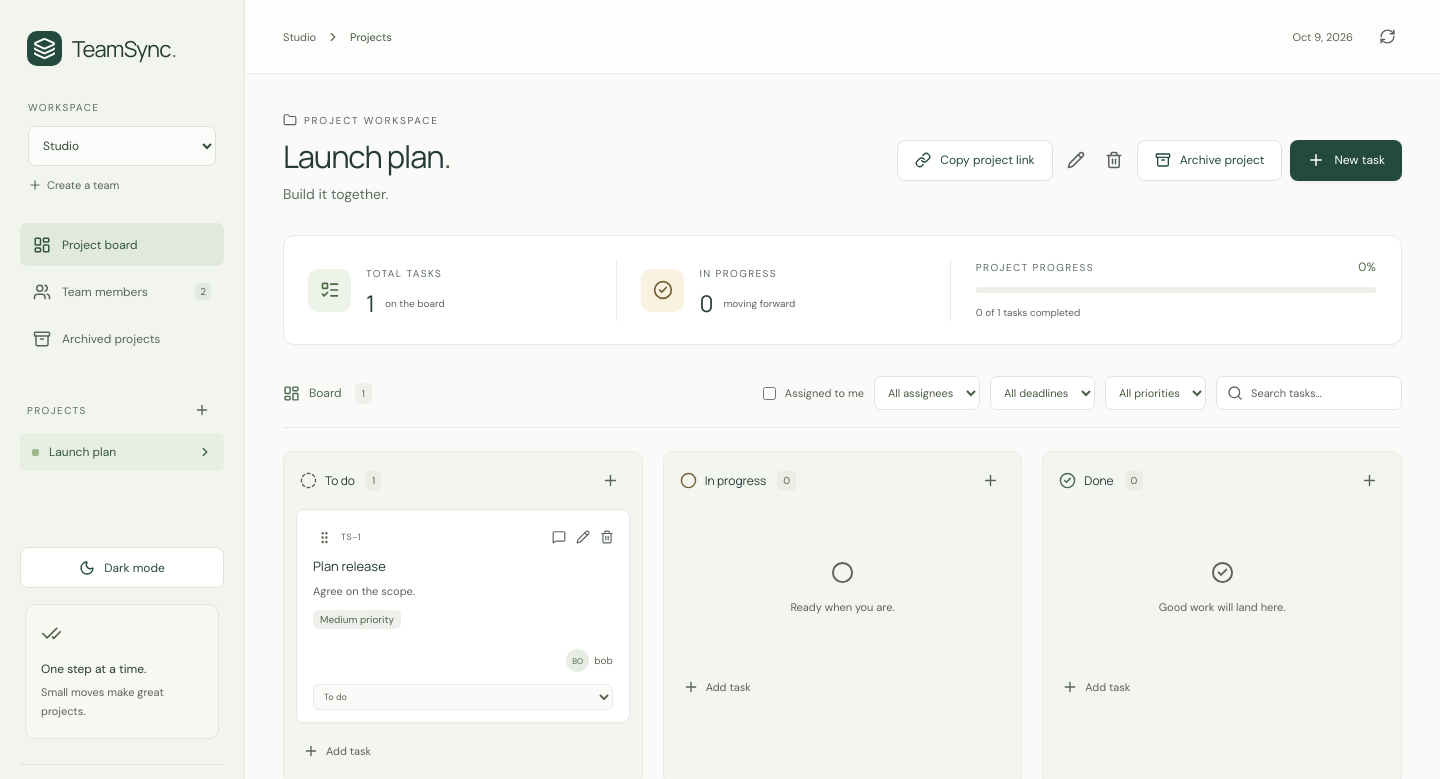
Test: filters tasks and clears an empty search
This screenshot has width=1440, height=779.
Expected: the heading "Launch plan." is shown, [283, 136, 450, 176]
In the search field labelled "Search tasks": (1321, 393) [1251, 386, 1391, 400], type "missing"
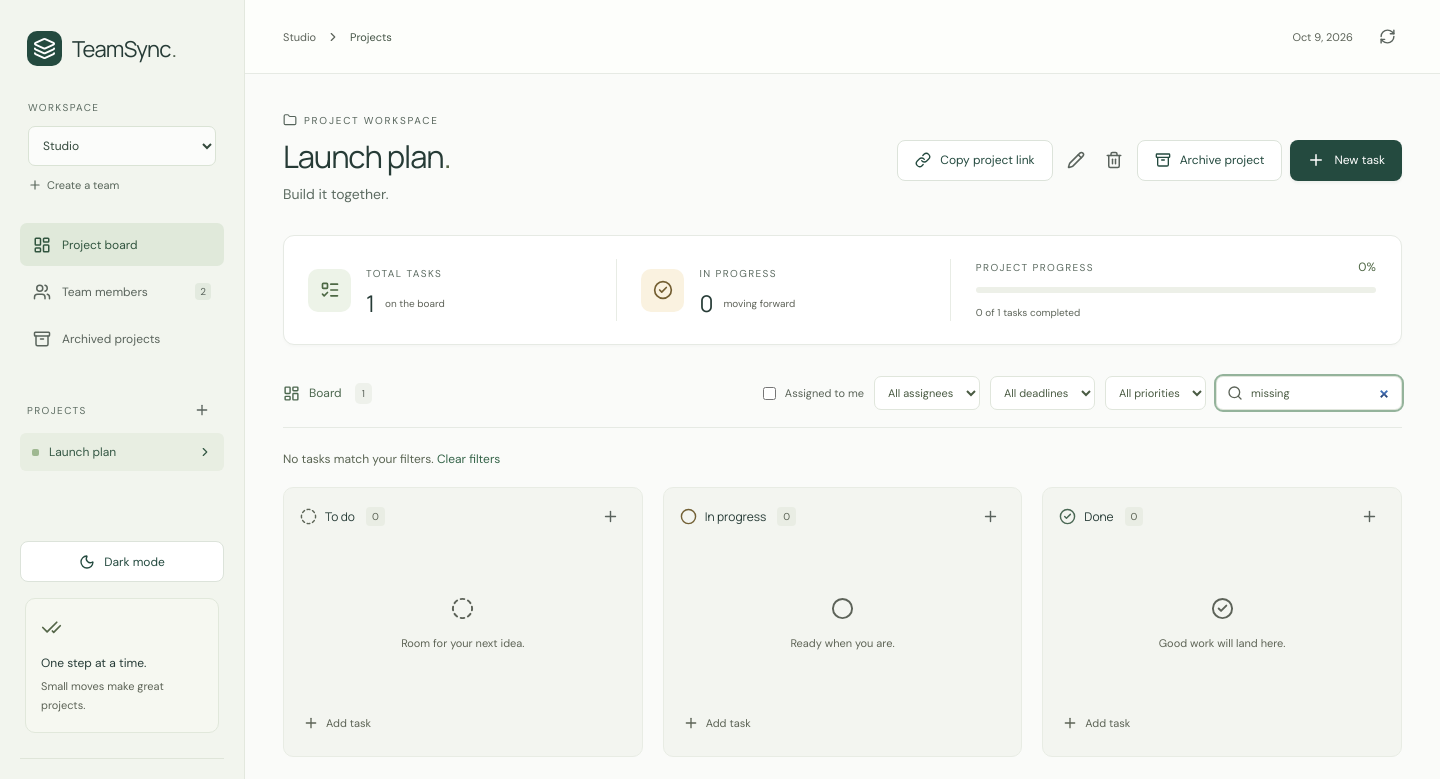
Expected: the heading "Plan release" is gone
Click the button "Clear filters": (469, 459) [437, 451, 500, 467]
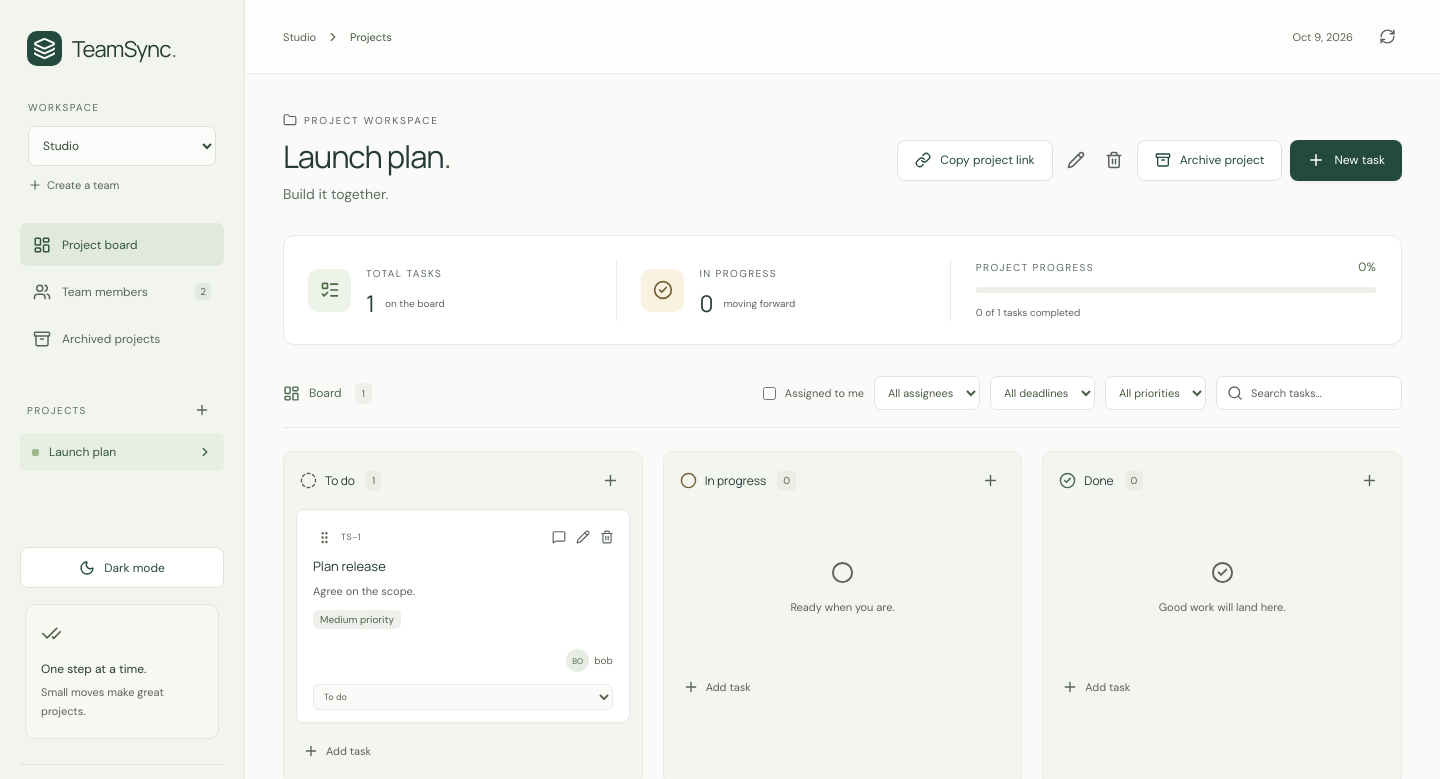
Expected: the heading "Plan release" is shown, [313, 557, 386, 575]
Click the checkbox labelled "Assigned to me": (769, 393) [763, 387, 776, 400]
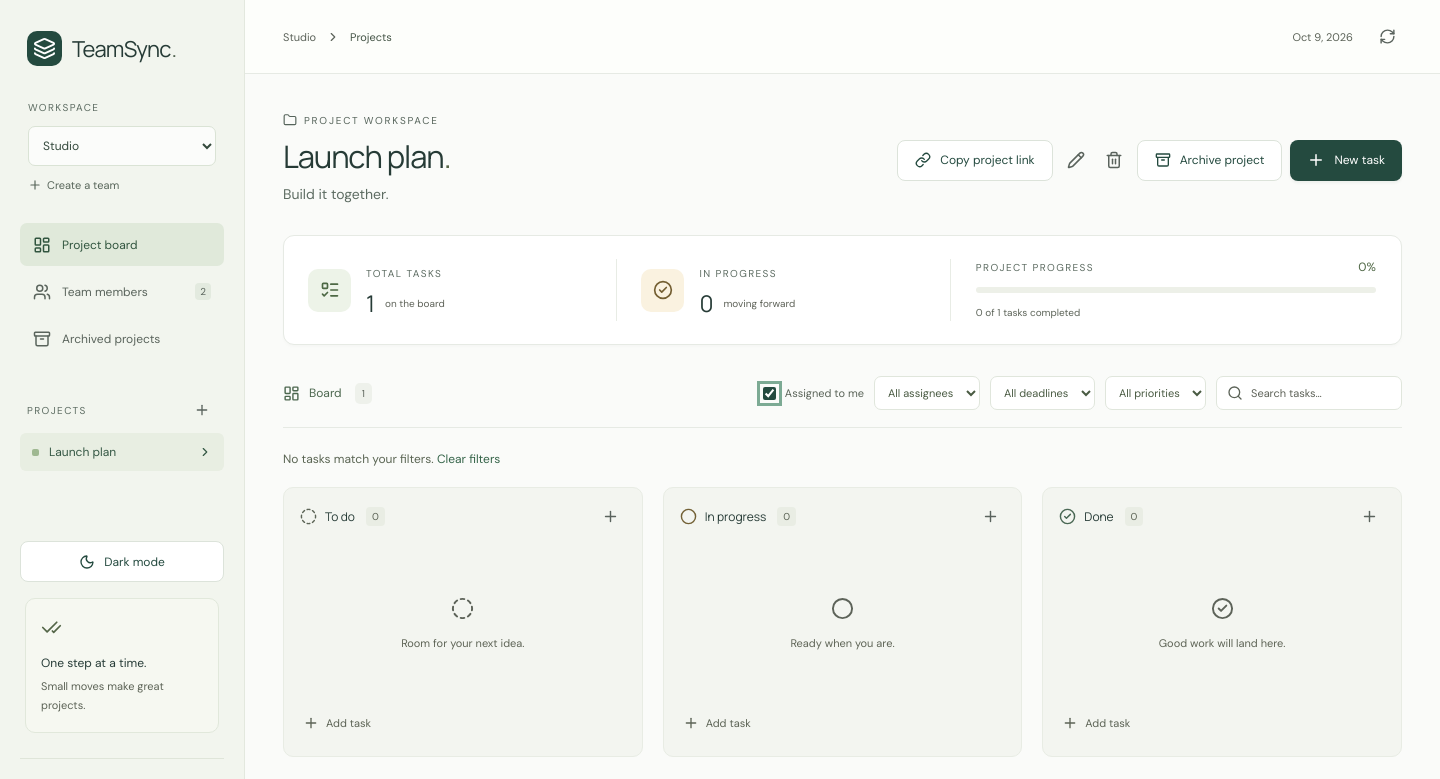
Expected: the heading "Plan release" is gone
